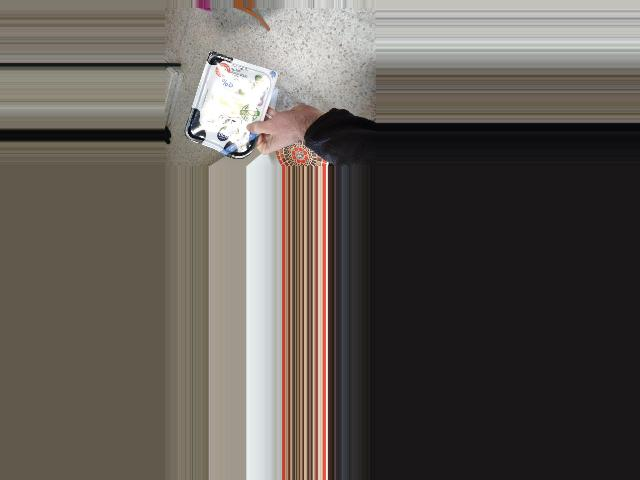cheese: (194, 63, 260, 153)
